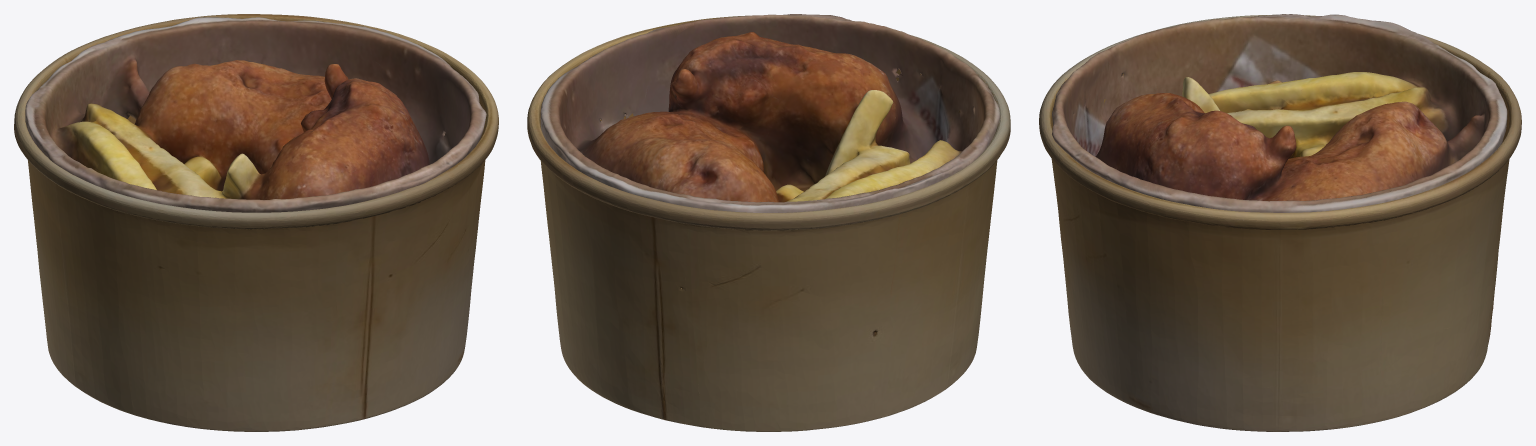
Rendered from chines.strip.bowl.glb.
The picture shows the model from 3 angles, left to right: view 1: azimuth 30°, elevation 25°; view 2: azimuth 150°, elevation 25°; view 3: azimuth 270°, elevation 25°; orthographic projection.
Visible parts, largest first — view 1: world.001, 3DModel.001; view 2: world.001, 3DModel.001; view 3: world.001, 3DModel.001.
Boxes of the visible parts, bbox=[...] form: world.001: bbox=[14, 14, 498, 431]; 3DModel.001: bbox=[25, 17, 486, 212]; world.001: bbox=[527, 15, 1010, 431]; 3DModel.001: bbox=[540, 14, 1000, 212]; world.001: bbox=[1039, 14, 1521, 431]; 3DModel.001: bbox=[1052, 14, 1507, 212].
Size of the model in its own units: 0.2281 by 0.1385 by 0.228.
Materials: 2 (2 with a texture image).
